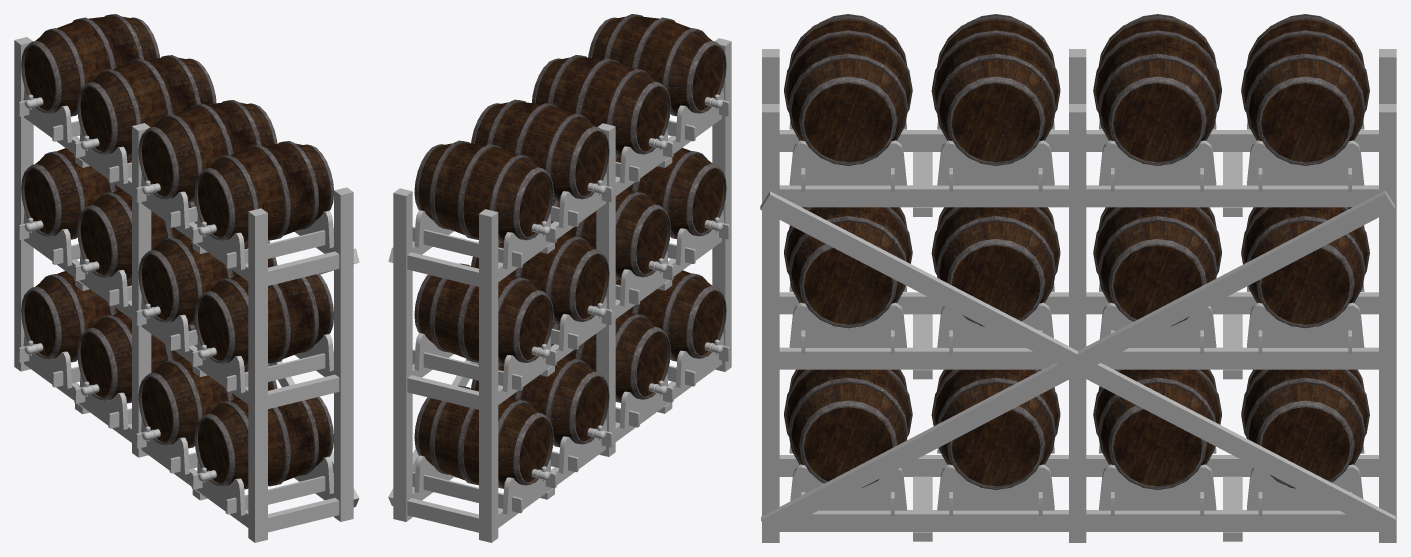
Rendered from MESH_BarrelShelving_1.fbx.
3 views of the same model, side by side, from view 1: azimuth 30°, elevation 25°; view 2: azimuth 150°, elevation 25°; view 3: azimuth 270°, elevation 25° (orthographic). The views are drawn at different scales.
Parts seen in each view (by area): view 1: MESH_BarrelShelving_1; view 2: MESH_BarrelShelving_1; view 3: MESH_BarrelShelving_1.
Part boxes in pixels (bbox=[...]): MESH_BarrelShelving_1: bbox=[14, 14, 359, 542]; MESH_BarrelShelving_1: bbox=[388, 14, 731, 542]; MESH_BarrelShelving_1: bbox=[760, 14, 1396, 542].
Bounding box in the file's own units: 104 × 283 × 343.
